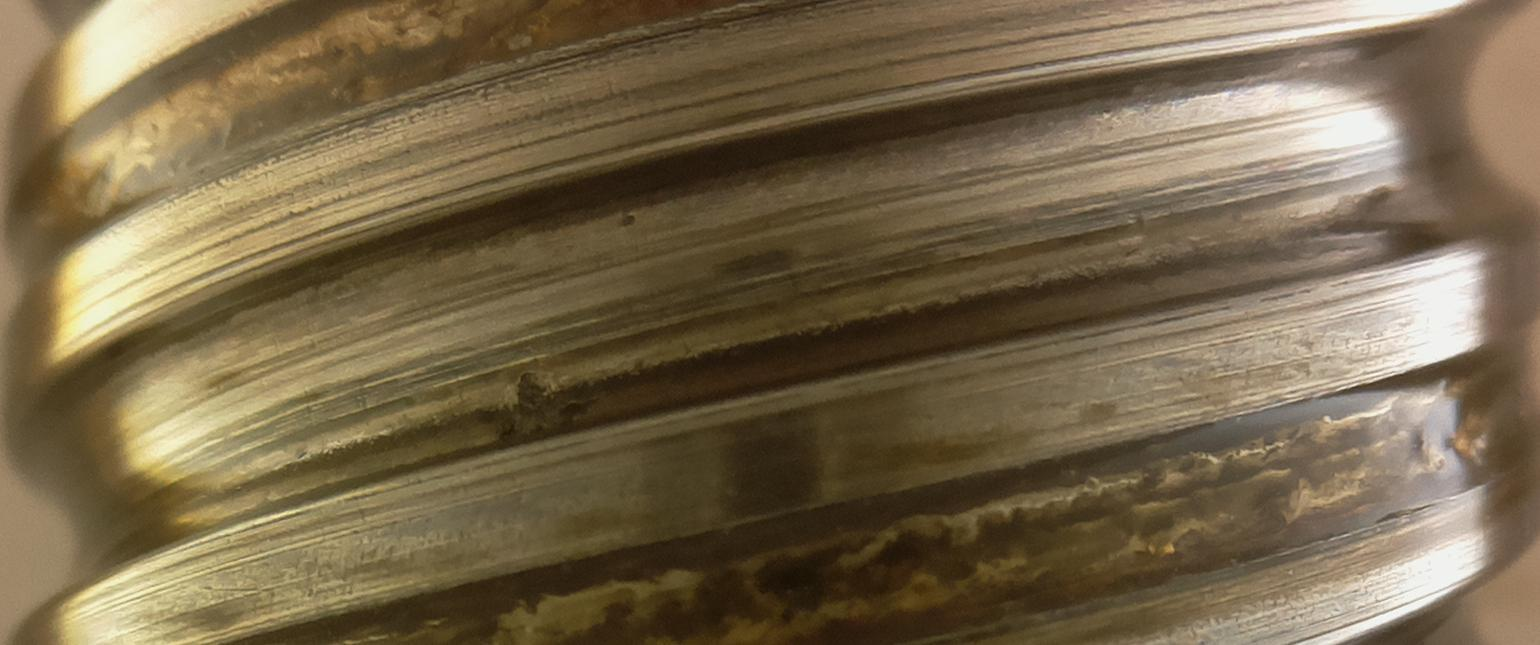pitting: (497, 372, 601, 442)
